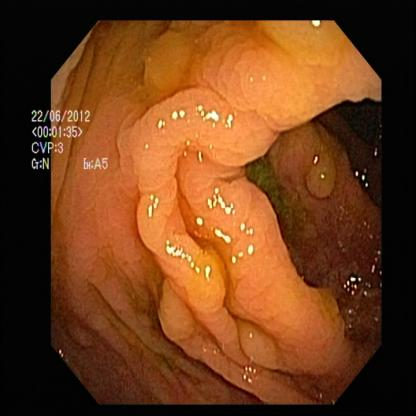Labels: (25, 104, 116, 173)
Polyps: (306, 156, 342, 203)
